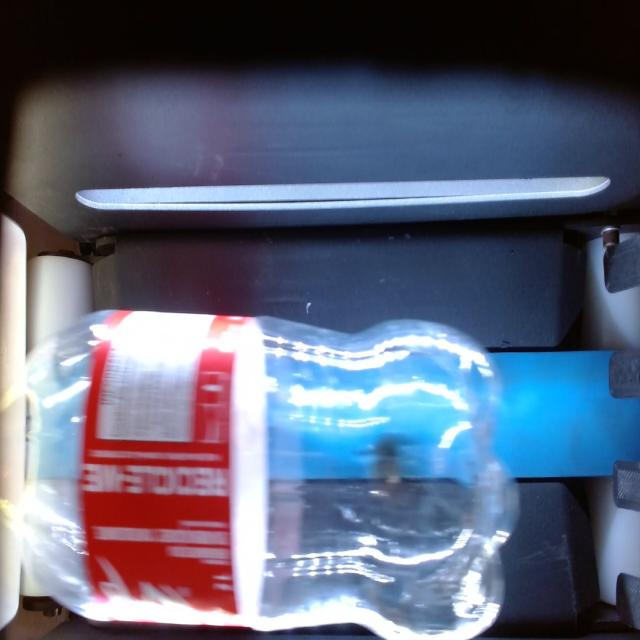bottom: (408, 318, 520, 640)
